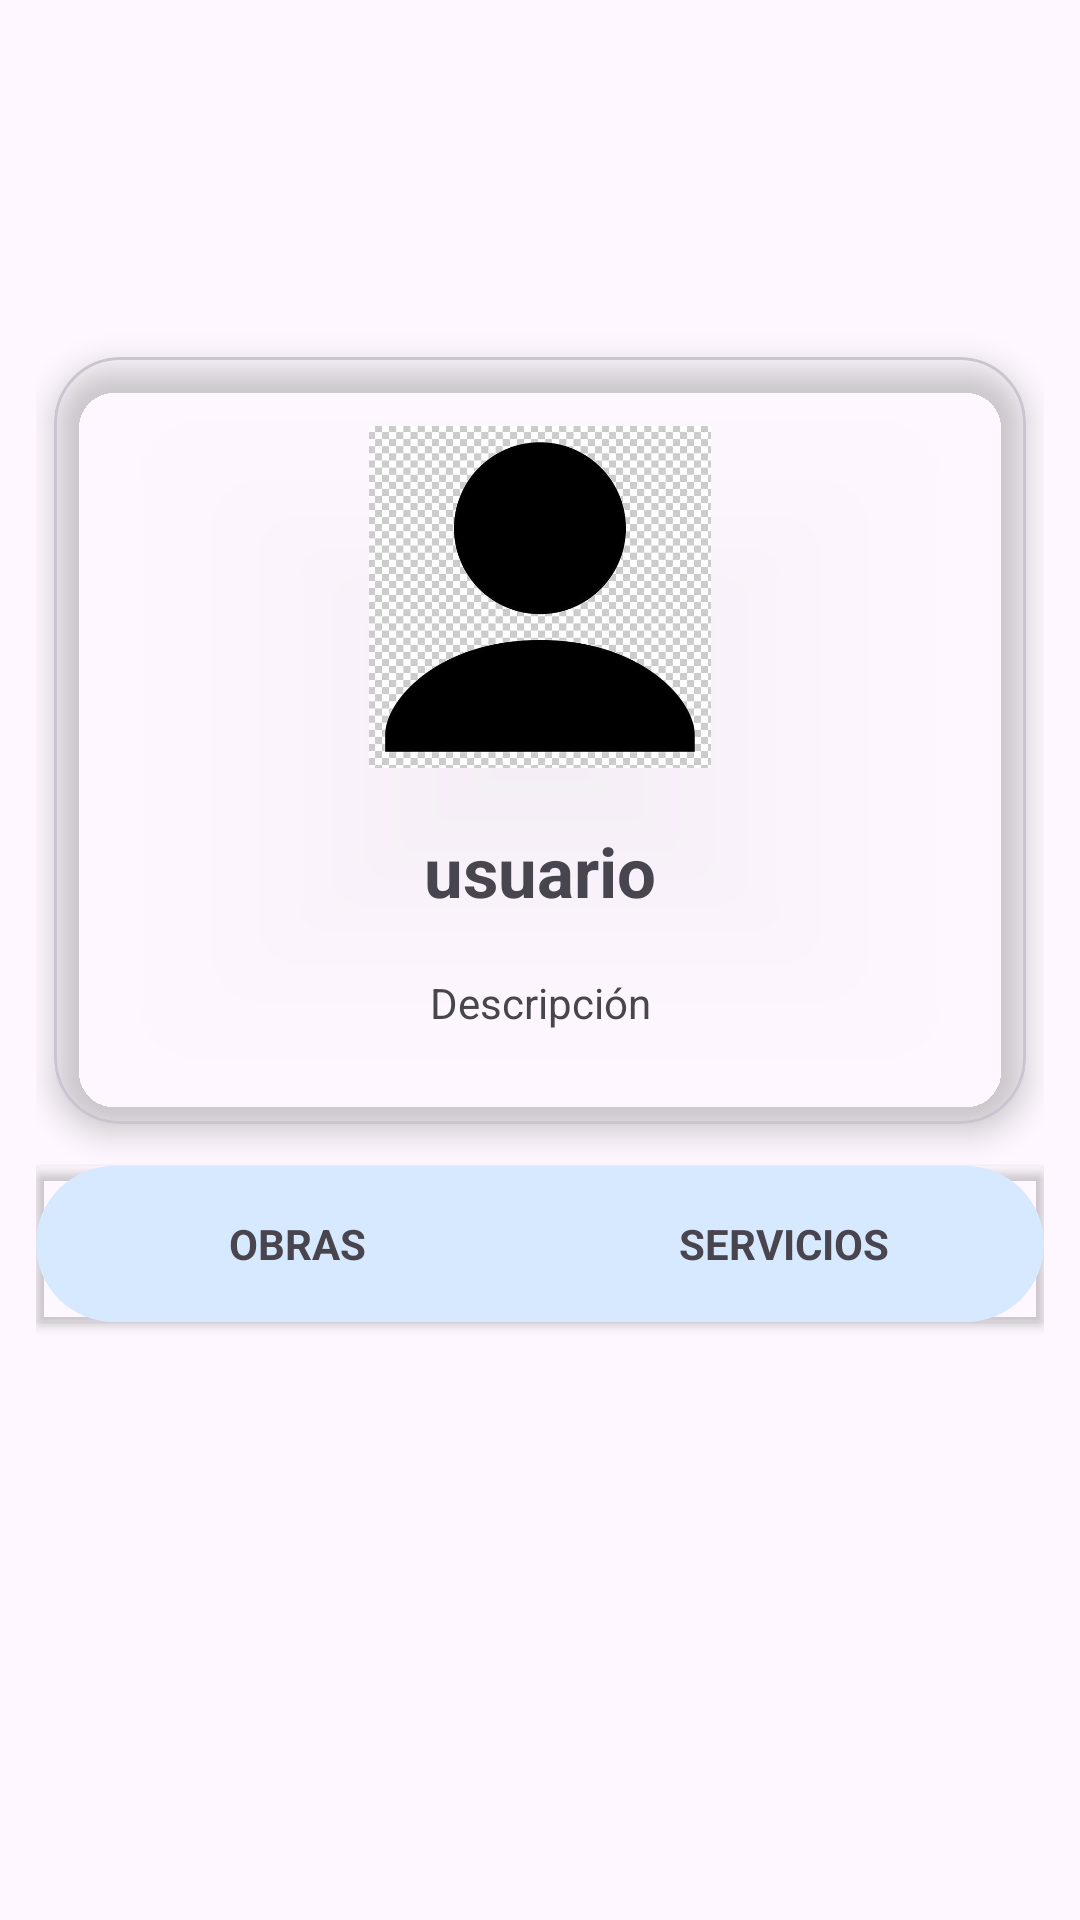

Icon bounding boxes for this 1080 × 1920 phone screenshot, format Rect(x1, y1, x2, y2):
fotoperfilprueba: Rect(369, 426, 711, 768)
